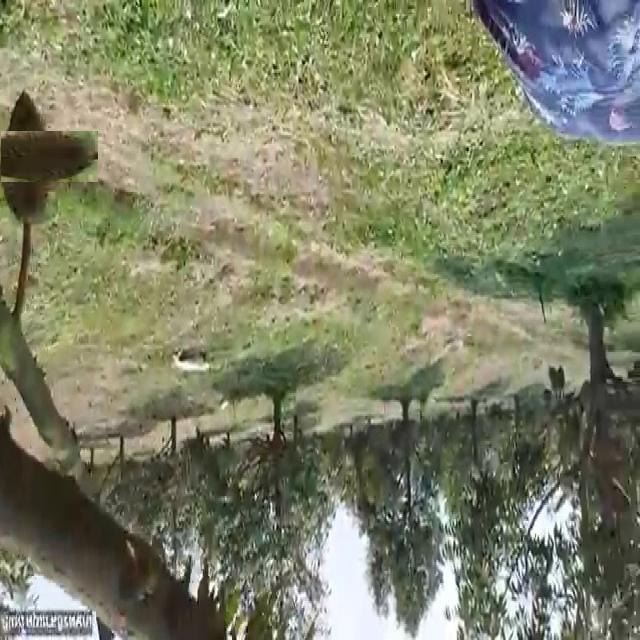durian: (0, 109, 76, 205)
